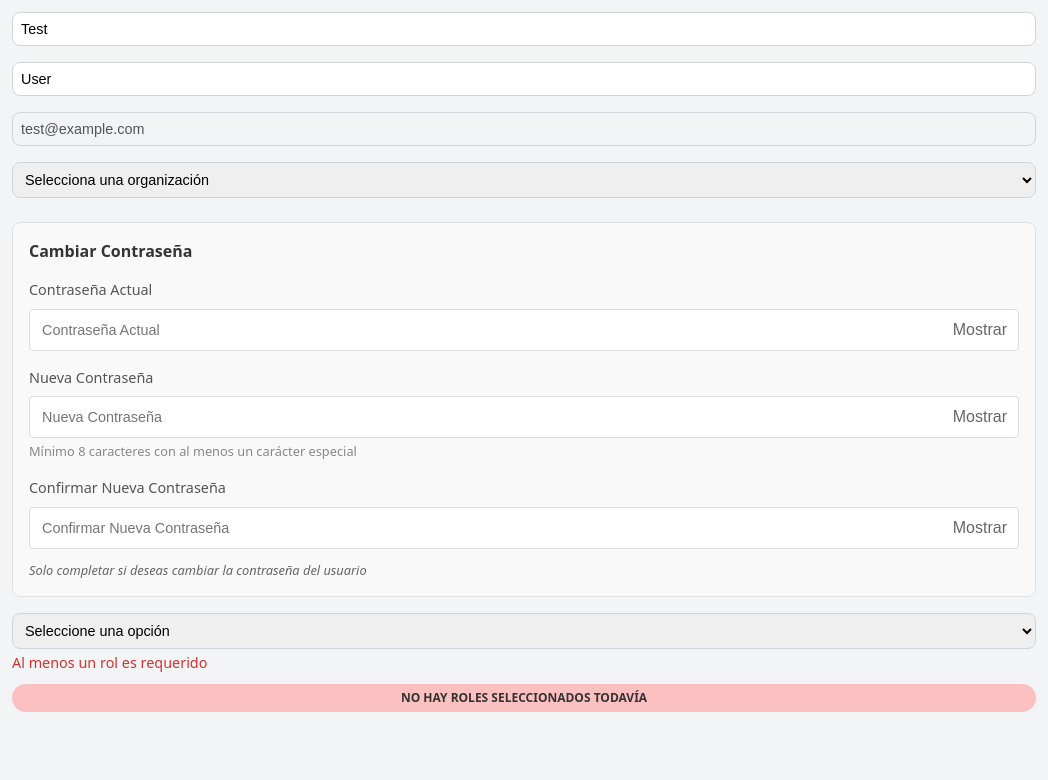
it: UserFormModalContent - Missing Coverage Lines › Password Validation › covers lines 170-176: password confirmation validation
The width and height of the screenshot is (1048, 780).
Note: Set new password
Step 1. Type "validPassword123!" into the password field with placeholder "Nueva Contraseña" → (524, 417), box [29,396,1019,438]
Wait 100 ms
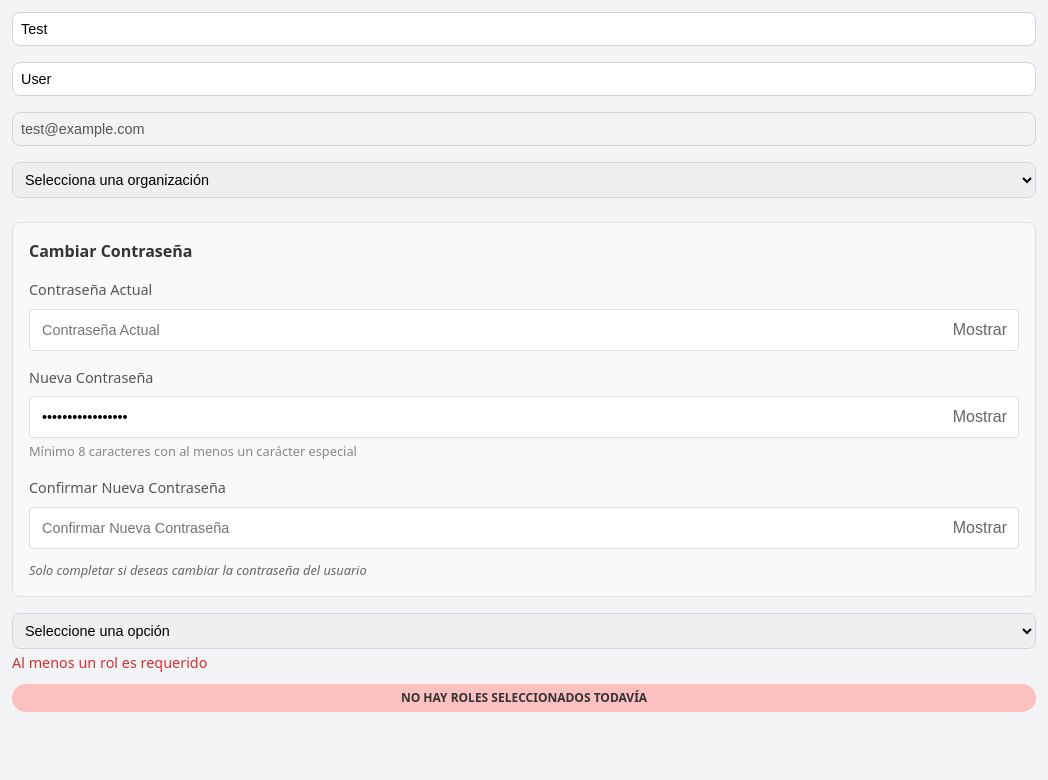
Note: Set different confirm password
Step 2. Type "differentPassword123!" into the password field with placeholder "Confirmar Nueva Contraseña" → (524, 528), box [29,507,1019,549]
Wait 100 ms
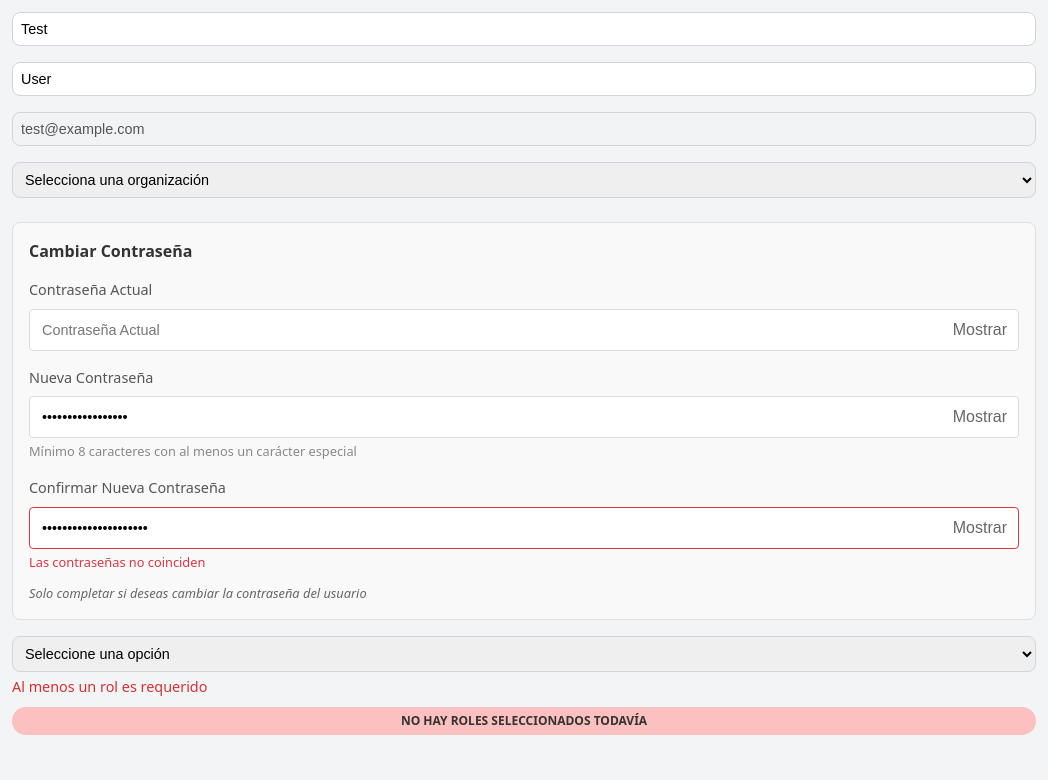
Expected: the text "Las contraseñas no coinciden" is shown, [29,553,205,571]
Note: Fix confirm password
Step 3. Type "validPassword123!" into the password field with placeholder "Confirmar Nueva Contraseña" below "Confirmar Nueva Contraseña" → (524, 528), box [29,507,1019,549]
Wait 100 ms
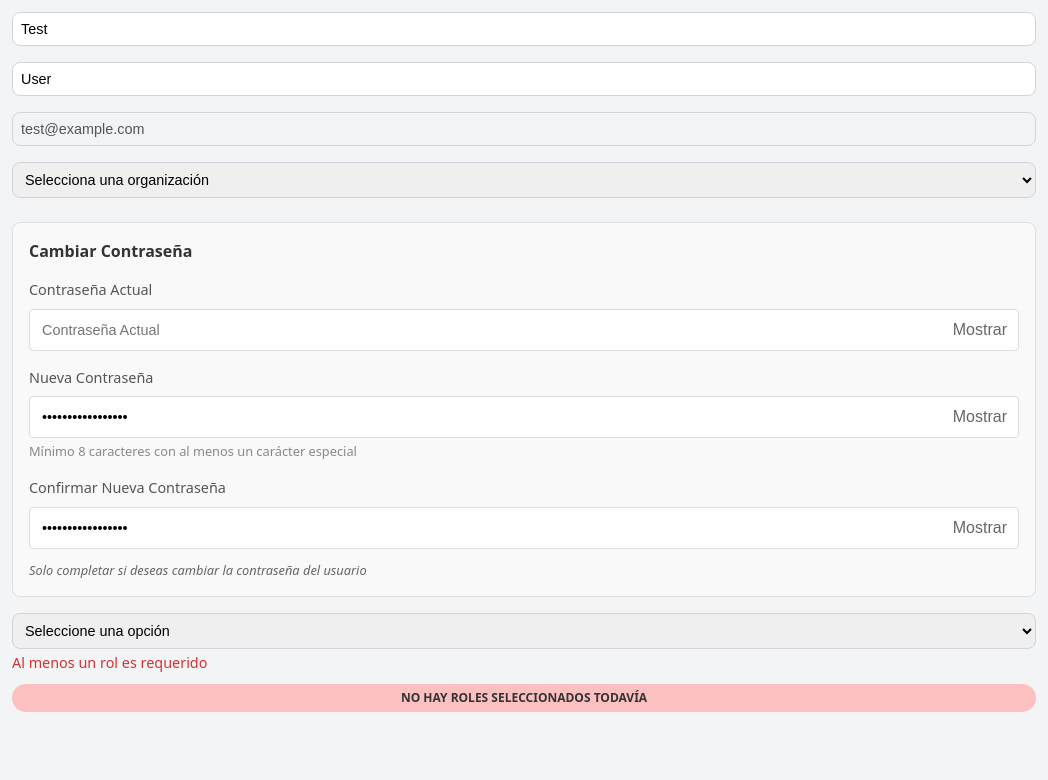
Expected: the text "Las contraseñas no coinciden" is gone
